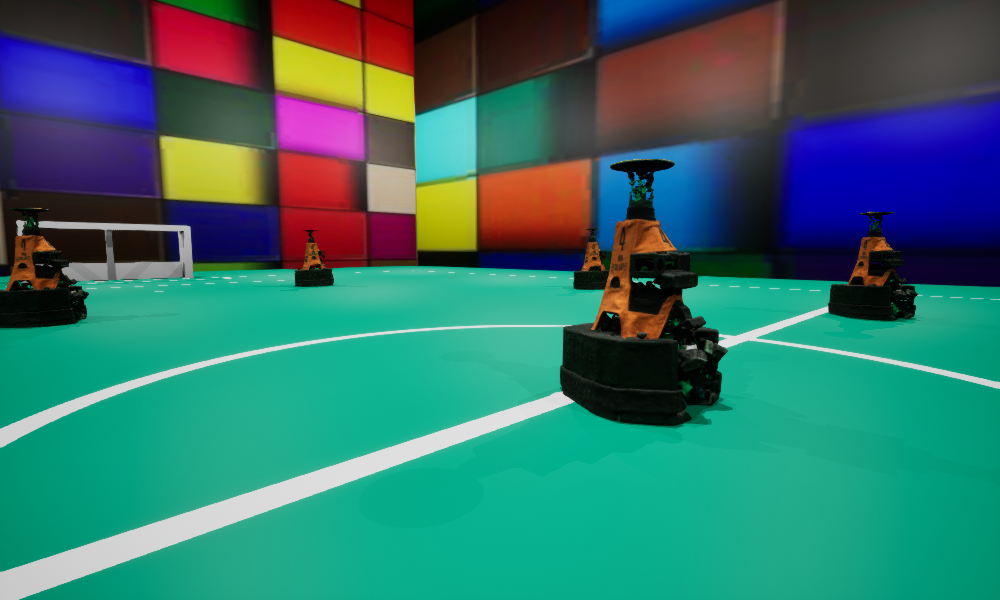0 orange robot TechUnited: (560, 159, 727, 425), (0, 208, 88, 327), (828, 212, 917, 320), (573, 228, 609, 289), (295, 230, 333, 286)
